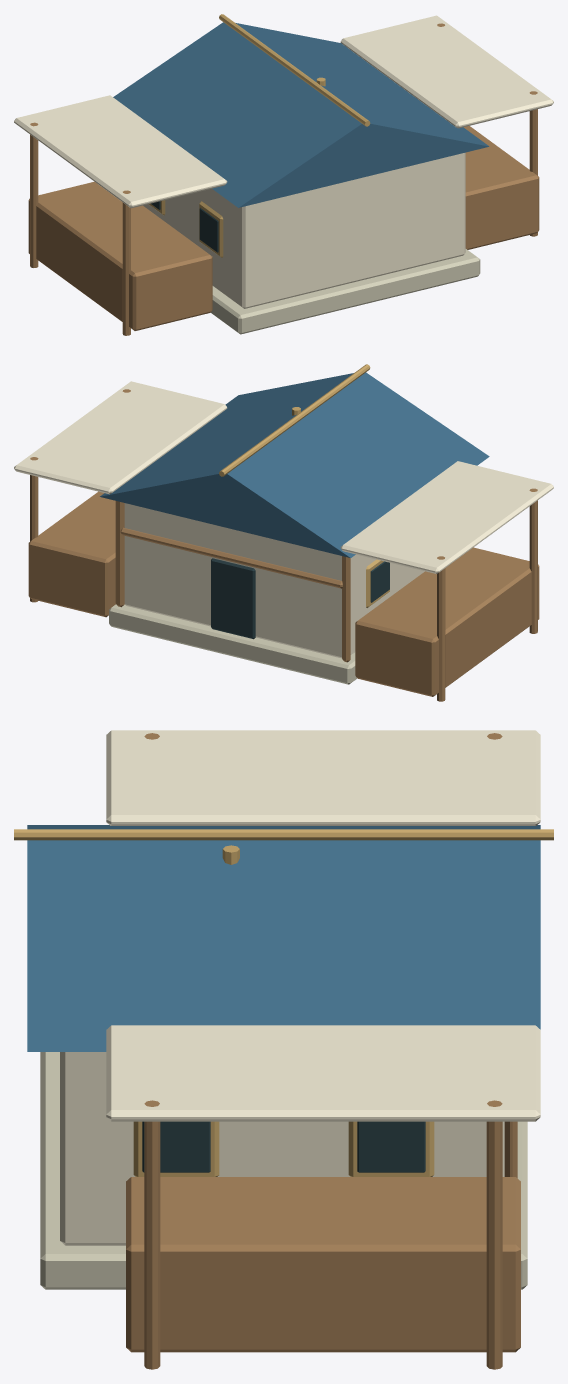
Rendered from level_02.glb.
3 views of the same model, one above another, from view 1: azimuth 30°, elevation 25°; view 2: azimuth 150°, elevation 25°; view 3: azimuth 270°, elevation 25° (orthographic). The views are drawn at different scales.
Visible parts, largest first — view 1: market — level 02; view 2: market — level 02; view 3: market — level 02.
Boxes of the visible parts, bbox=[...] form: market — level 02: bbox=[14, 14, 553, 335]; market — level 02: bbox=[14, 364, 553, 701]; market — level 02: bbox=[14, 730, 553, 1369].
Bounding box in the file's own units: 6.9 × 2.96 × 4.1.
